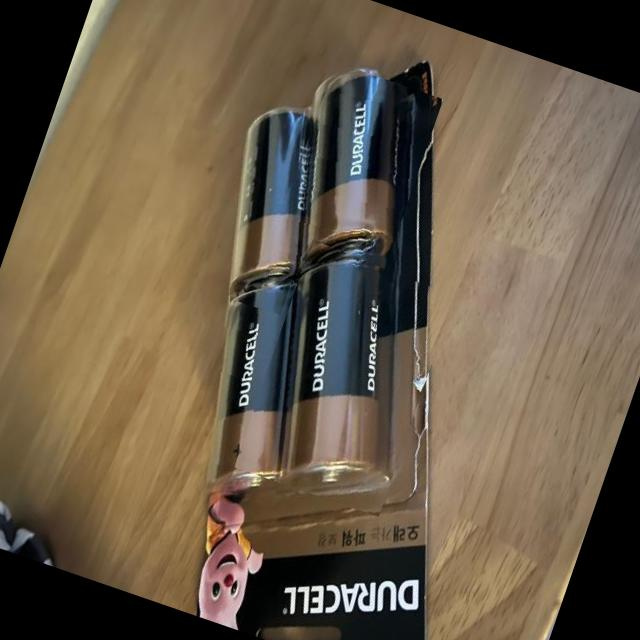Hazard: (234, 238, 457, 516), (260, 59, 443, 302), (170, 264, 343, 508), (193, 96, 345, 314)
